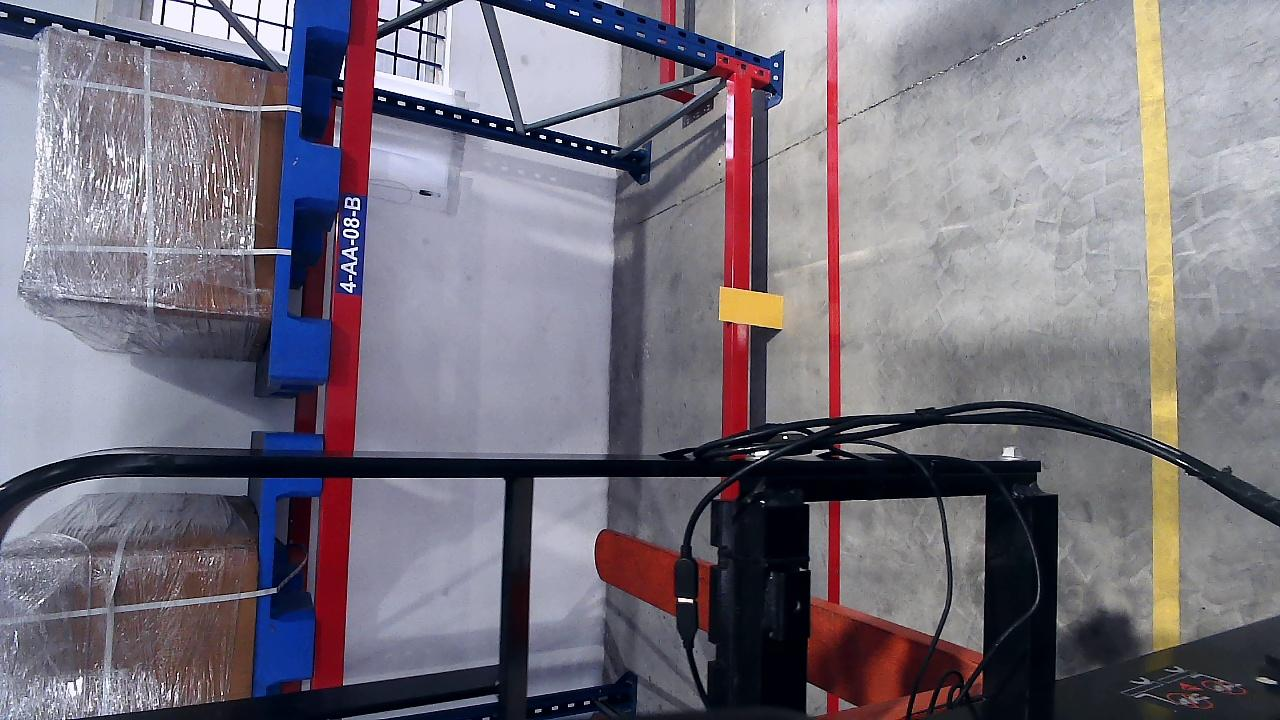h_rack: (320, 0, 381, 452), (728, 70, 757, 435), (311, 478, 356, 689)
orange_strip: (718, 286, 784, 330)
red_line: (822, 73, 844, 410)
small_pallet: (250, 478, 324, 691)
yellow_line: (1135, 1, 1181, 592)
